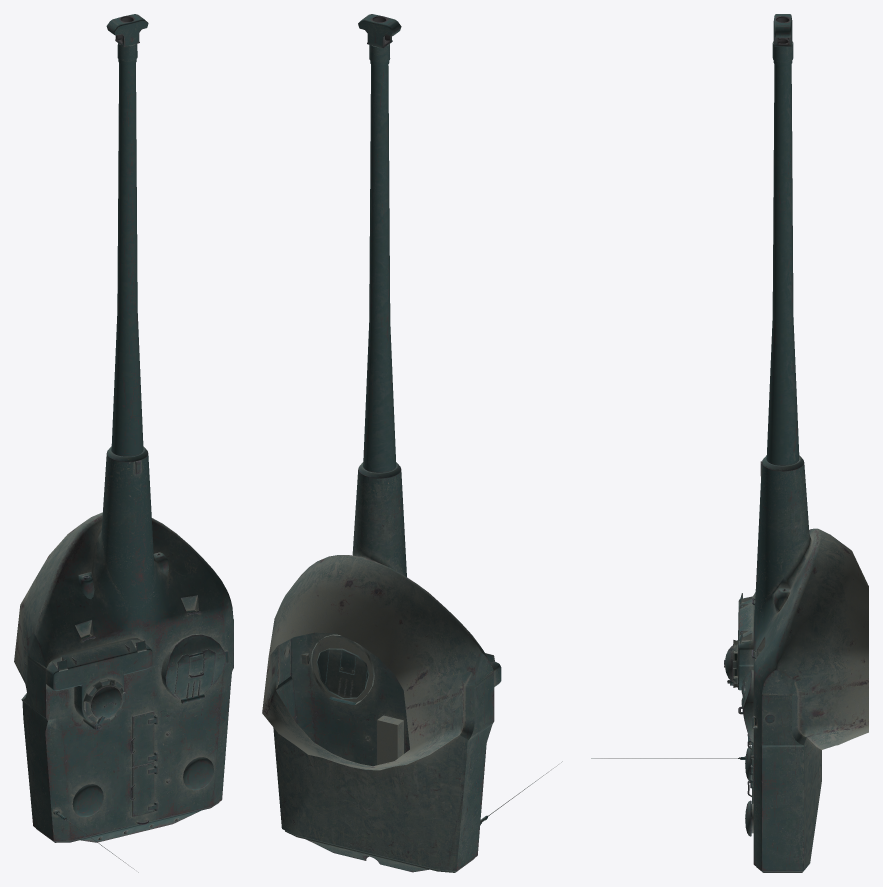
File: Gun_03.glb
3 views of the same model, side by side, from view 1: azimuth 30°, elevation 25°; view 2: azimuth 150°, elevation 25°; view 3: azimuth 270°, elevation 25° (orthographic). The views are drawn at different scales.
Parts seen in each view (by area): view 1: set_0_group_0; view 2: set_0_group_0; view 3: set_0_group_0.
Boxes of the visible parts, x1,y1,x2,y2 form: set_0_group_0: [14, 14, 233, 872]; set_0_group_0: [262, 14, 562, 872]; set_0_group_0: [591, 14, 868, 872].
Bounding box in the file's own units: 2.5 × 10.03 × 3.06.
1 material, 1 textured.
